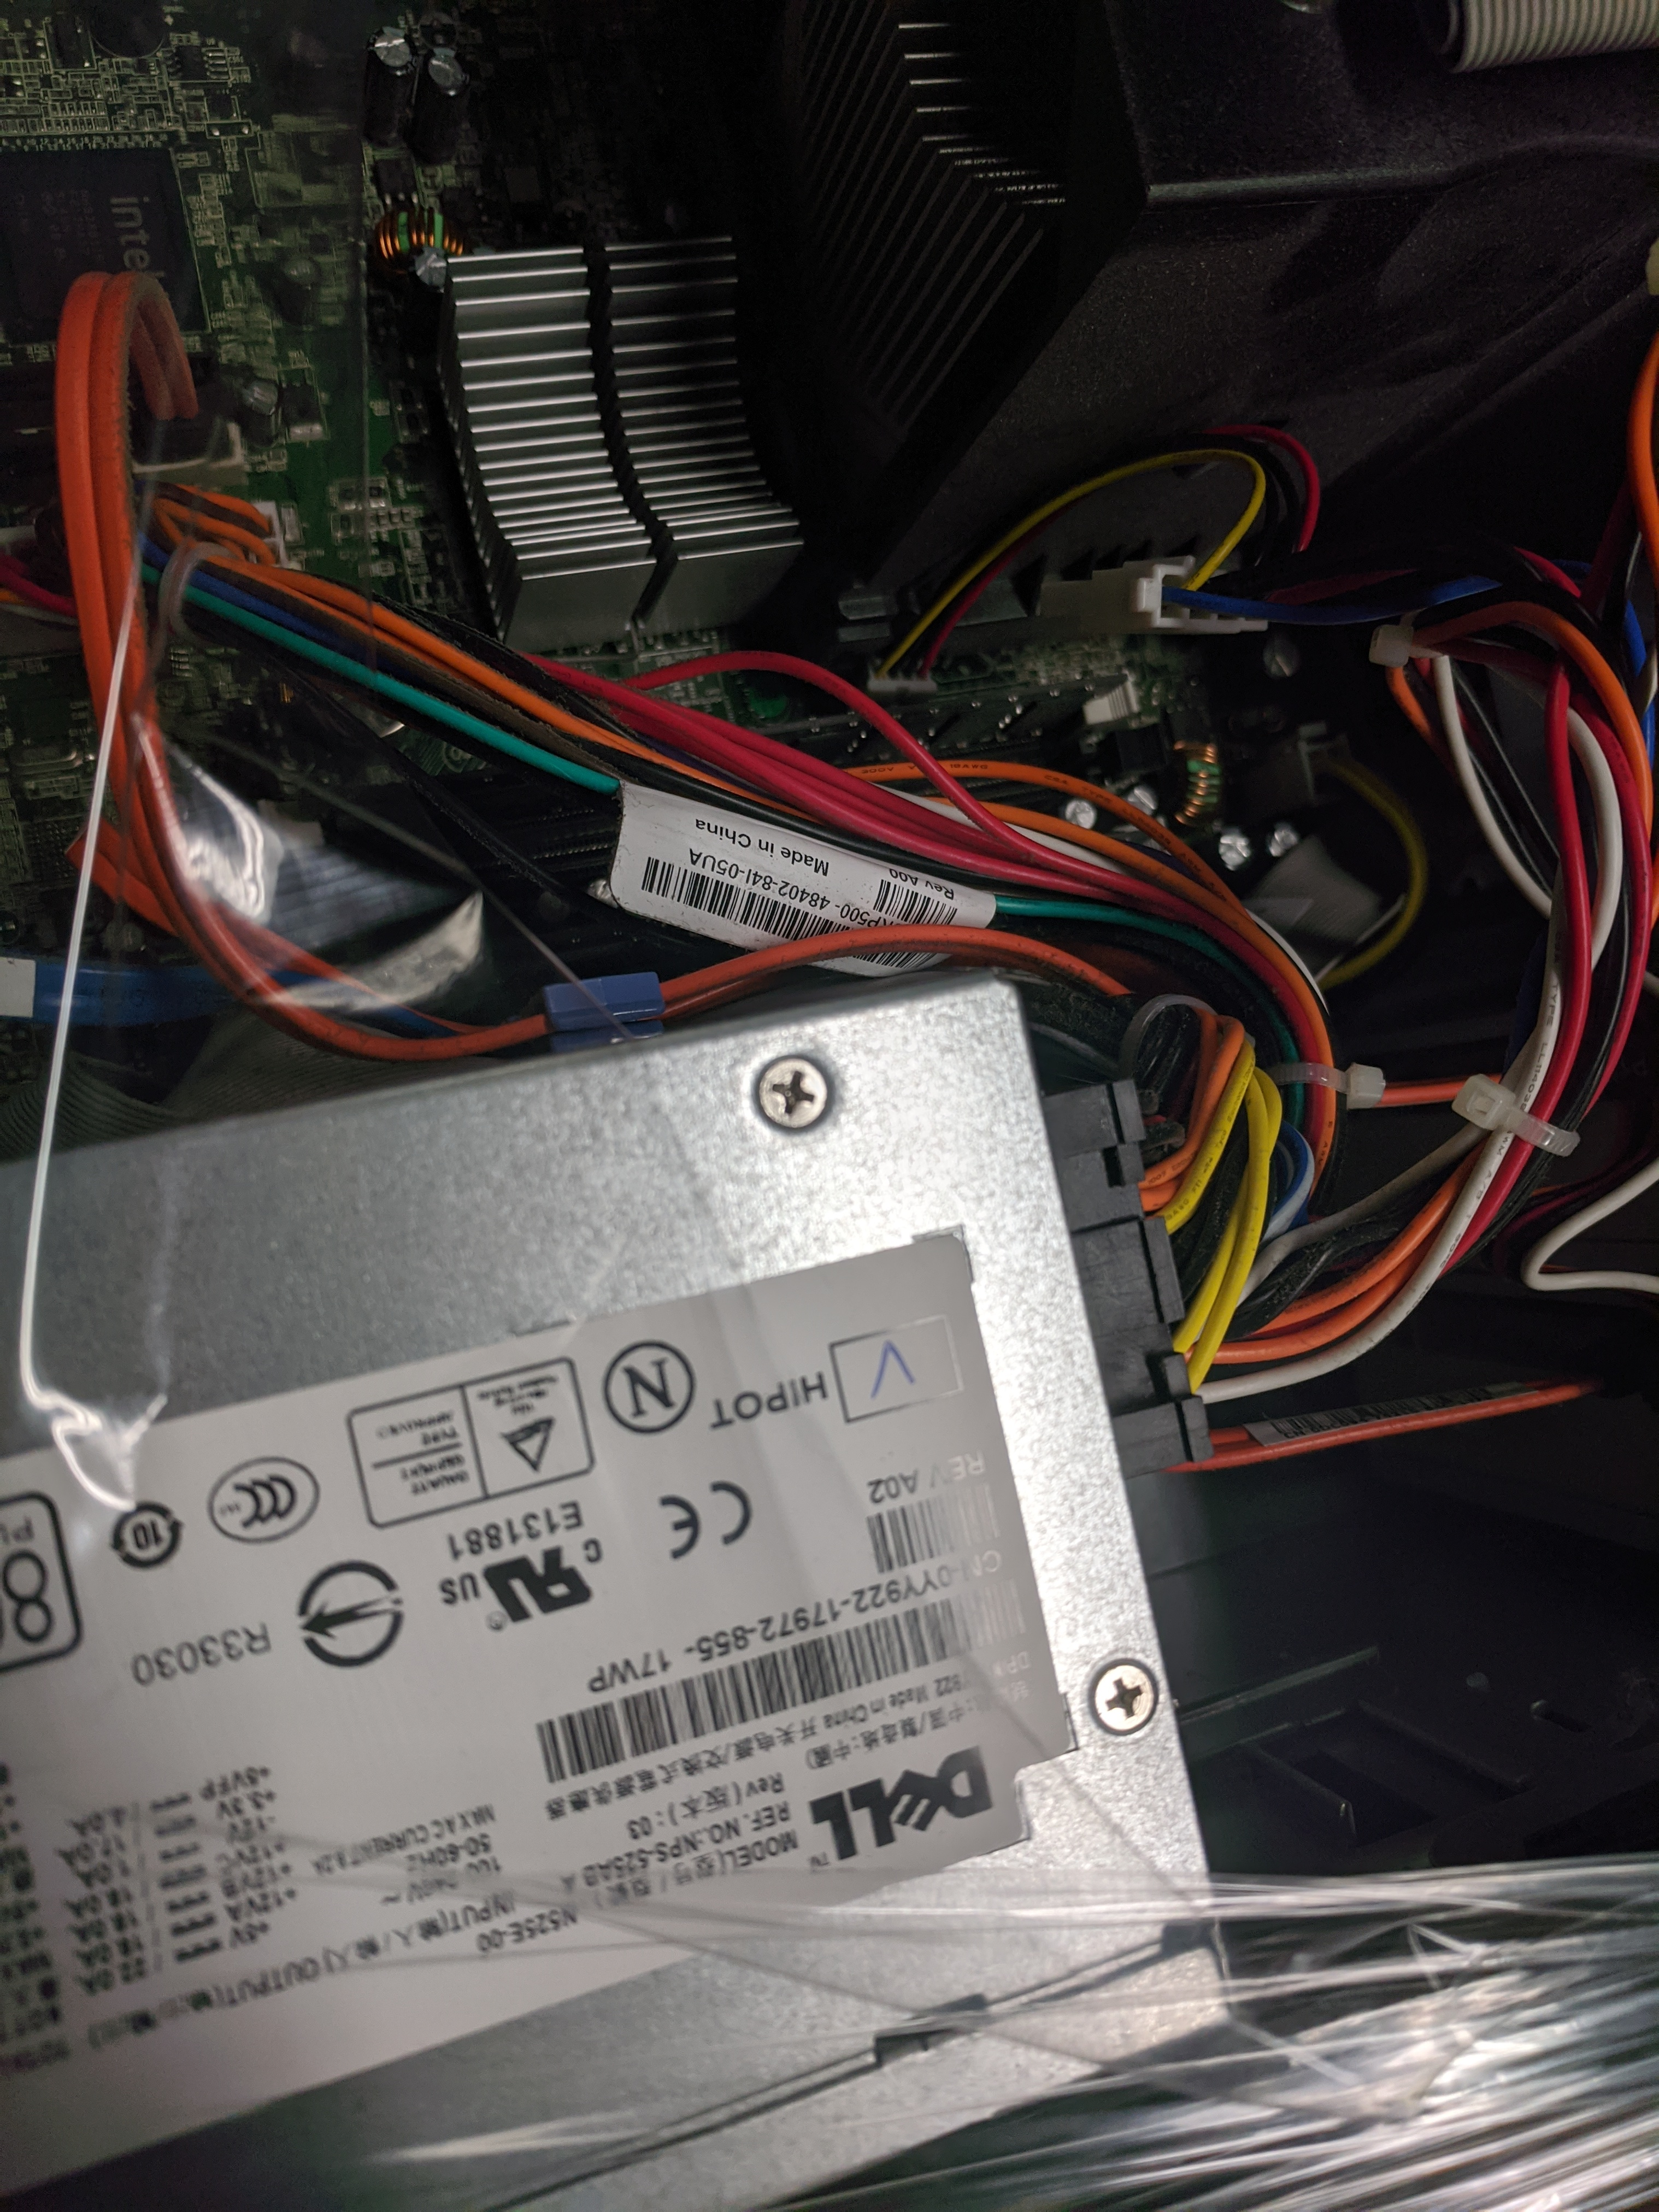cross_recessed_screw: (742, 1042, 838, 1132), (1086, 1646, 1159, 1738)
